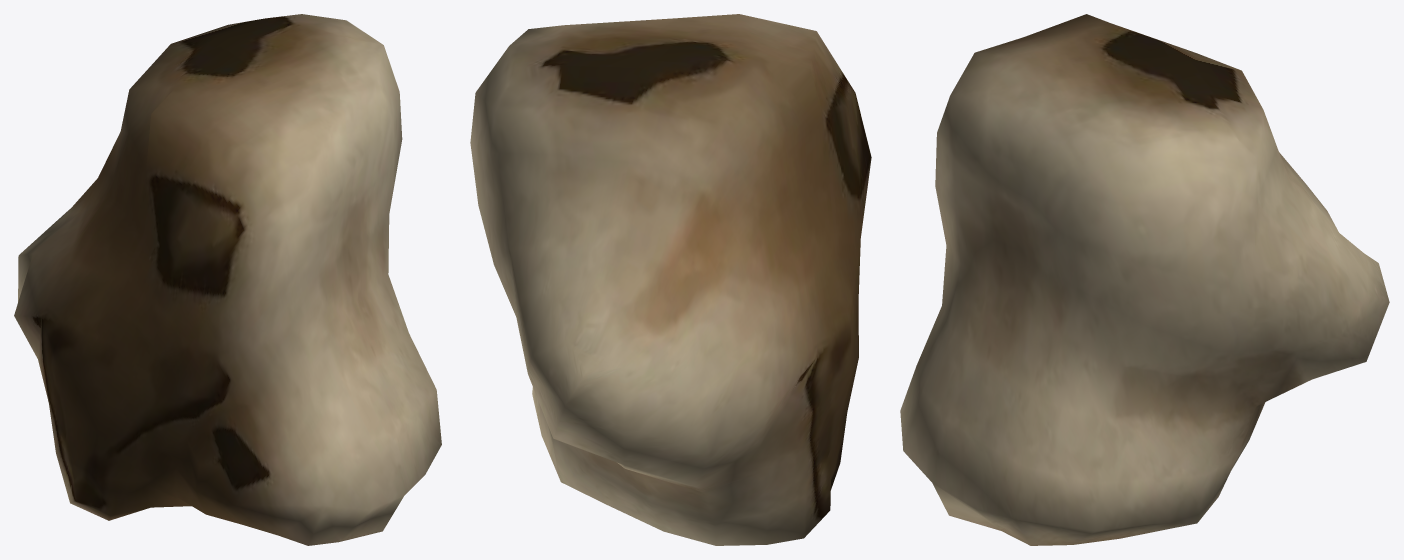
The model's file is Tarsal_IV.glb.
3 renders of one model, left to right at view 1: azimuth 30°, elevation 25°; view 2: azimuth 150°, elevation 25°; view 3: azimuth 270°, elevation 25°, orthographic. The views are drawn at different scales.
Parts seen in each view (by area): view 1: Tarsal_IV_Left1:Group59142; view 2: Tarsal_IV_Left1:Group59142; view 3: Tarsal_IV_Left1:Group59142.
Part boxes in pixels (x1,y1,x2,y2): Tarsal_IV_Left1:Group59142: (14,14,441,545); Tarsal_IV_Left1:Group59142: (470,14,871,545); Tarsal_IV_Left1:Group59142: (900,14,1389,545).
Size of the model in its own units: 13.49 by 16.73 by 16.32.
Materials: 1 (1 with a texture image).
